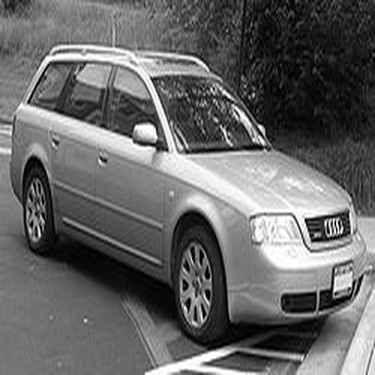car: (11, 30, 369, 346)
